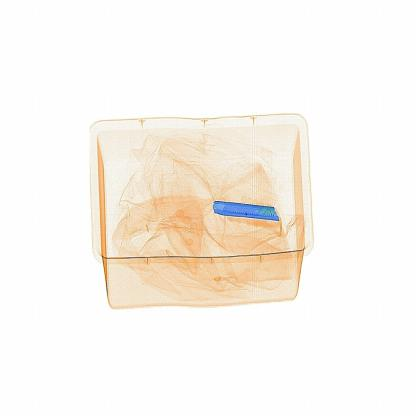pliers: (202, 192, 290, 244)
